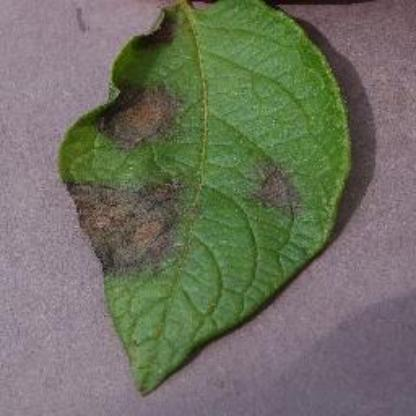Late-Blight: (21, 0, 392, 380)
